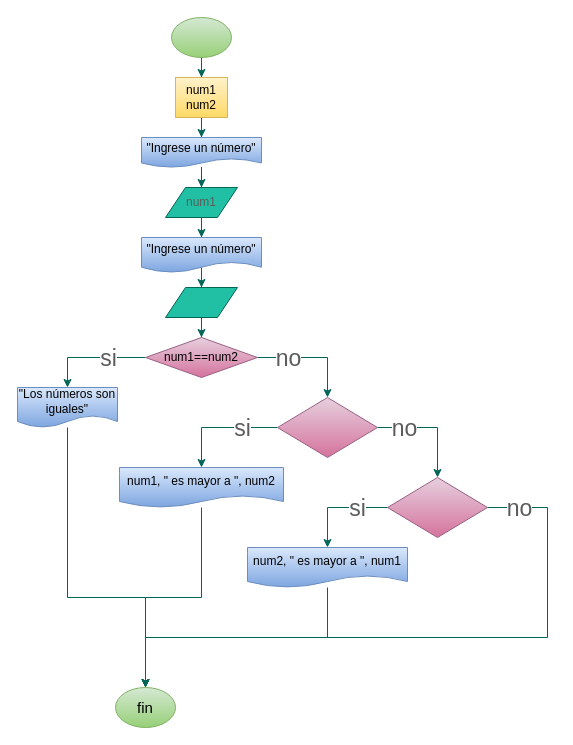
Image size: 573x745. Some labels were removed from this diagram. Each missing label, with the box of its shape:
Inicio: (170, 16, 232, 58)
num1>num2: (276, 396, 378, 458)
num2: (164, 286, 238, 318)
num2>num1: (386, 476, 488, 538)
